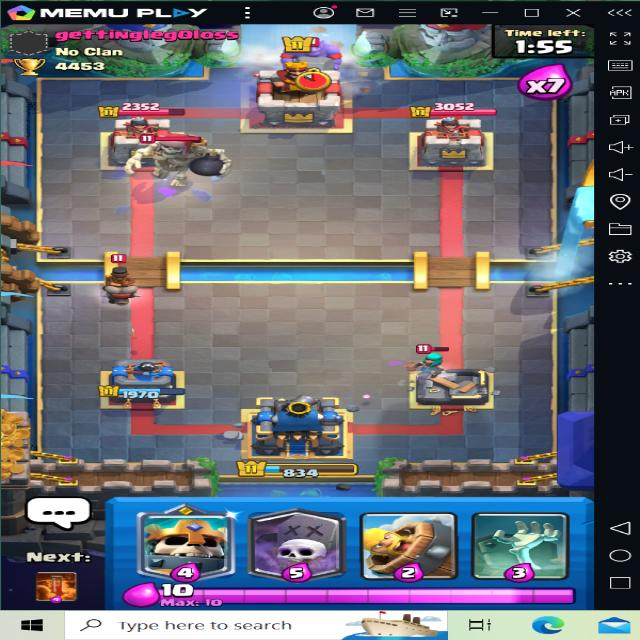Bowler: (278, 36, 346, 79)
Giantskeleton: (127, 126, 229, 186)
Ramrider: (84, 250, 148, 304)
Rascalgirl: (416, 343, 454, 373)
